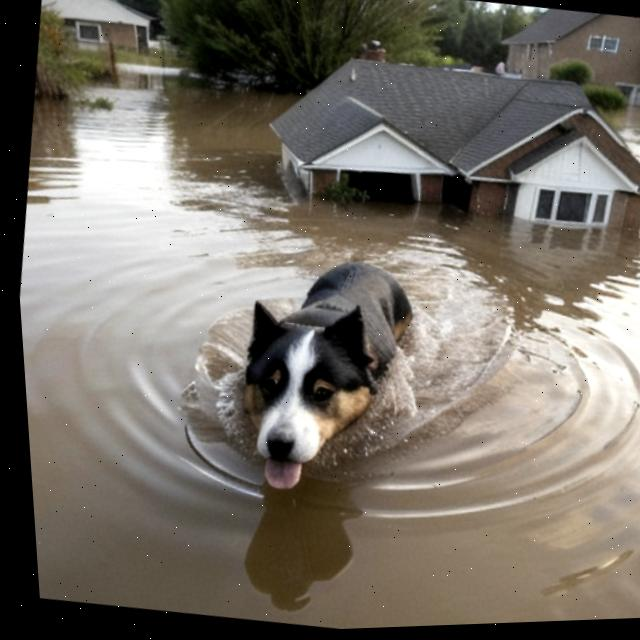dog: (189, 225, 451, 525)
